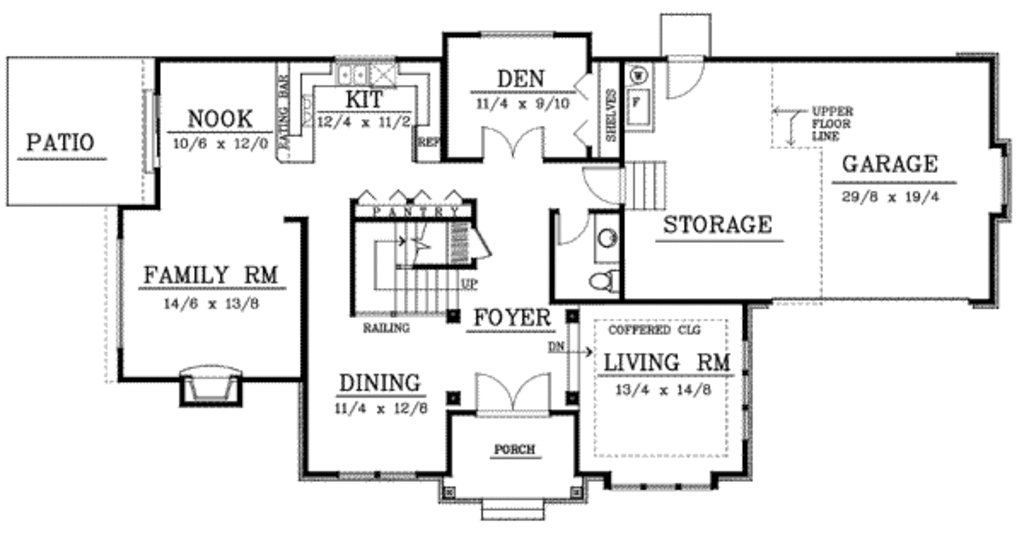door: (464, 371, 555, 420), (477, 120, 555, 167), (665, 50, 714, 103), (462, 225, 498, 274), (583, 163, 623, 205), (556, 207, 590, 246)
large_sink: (585, 269, 623, 299)
small_sink: (586, 210, 618, 267)
stairs: (336, 205, 462, 317)
twin_sink: (333, 62, 373, 90)
window: (134, 82, 162, 178), (739, 342, 753, 446), (331, 472, 422, 481), (474, 30, 560, 39)
